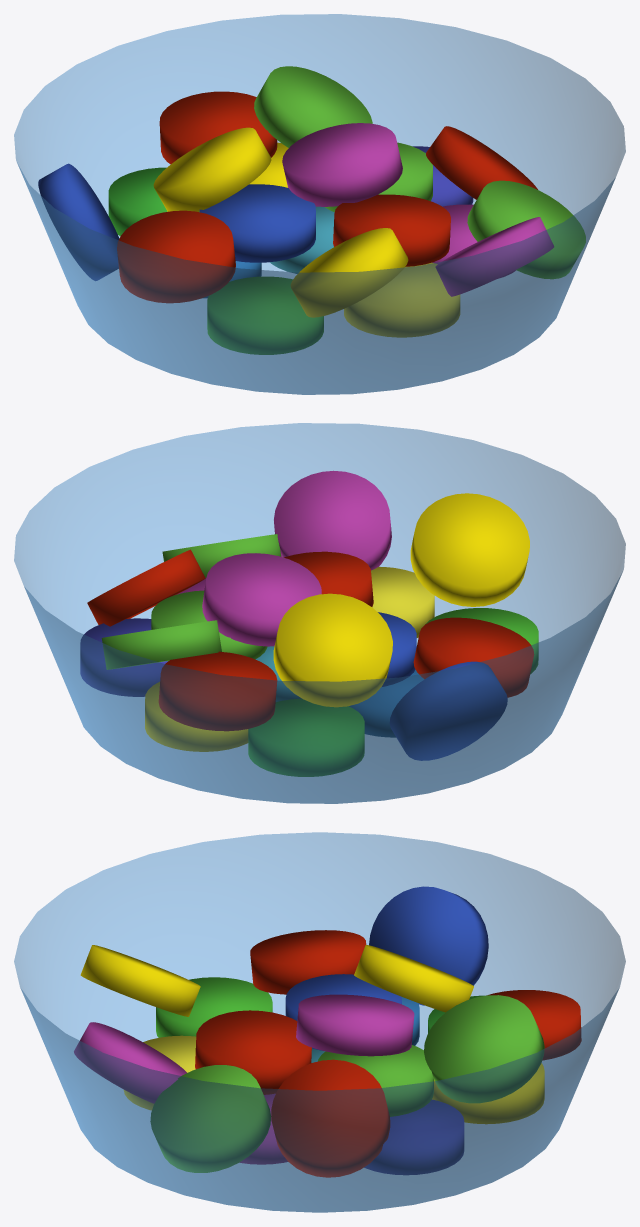
The model's file is Sweet.fbx.
The picture shows the model from 3 angles, top to bottom: view 1: azimuth 30°, elevation 25°; view 2: azimuth 150°, elevation 25°; view 3: azimuth 270°, elevation 25°; orthographic projection.
Parts seen in each view (by area): view 1: Cylinder_001, Cylinder_009, Cylinder_013, Cylinder_006, Cylinder_020, Cylinder_010, Cylinder_016, Cylinder_019, Cylinder_014, Cylinder_005, Cylinder_015, Cylinder_012 (+9 smaller); view 2: Cylinder_001, Cylinder_020, Cylinder_016, Cylinder_018, Cylinder_015, Cylinder_017, Cylinder_013, Cylinder_003, Cylinder_009, Cylinder_021, Cylinder_014, Cylinder_002 (+9 smaller); view 3: Cylinder_001, Cylinder_021, Cylinder_014, Cylinder_019, Cylinder_015, Cylinder_012, Cylinder_013, Cylinder_009, Cylinder_002, Cylinder_018, Cylinder_020, Cylinder_016 (+7 smaller).
Part boxes in pixels (box(x1,y1,x2,y2)): Cylinder_001: box(14, 14, 625, 394); Cylinder_009: box(117, 210, 235, 303); Cylinder_013: box(282, 123, 402, 206); Cylinder_006: box(207, 276, 323, 354); Cylinder_020: box(290, 228, 408, 317); Cylinder_010: box(199, 184, 315, 262); Cylinder_016: box(153, 127, 271, 211); Cylinder_019: box(467, 180, 585, 279); Cylinder_014: box(254, 66, 372, 147); Cylinder_005: box(344, 262, 460, 337); Cylinder_015: box(38, 163, 119, 280); Cylinder_012: box(333, 194, 450, 266); Cylinder_001: box(14, 423, 625, 803); Cylinder_020: box(410, 493, 529, 606); Cylinder_016: box(273, 593, 392, 707); Cylinder_018: box(274, 470, 391, 570); Cylinder_015: box(389, 661, 507, 760); Cylinder_017: box(158, 651, 277, 731); Cylinder_013: box(202, 553, 321, 646); Cylinder_003: box(248, 698, 364, 776); Cylinder_009: box(413, 617, 534, 697); Cylinder_021: box(87, 549, 205, 626); Cylinder_014: box(101, 620, 221, 669); Cylinder_002: box(80, 618, 167, 696); Cylinder_001: box(14, 832, 625, 1212); Cylinder_021: box(271, 1059, 390, 1177); Cylinder_014: box(424, 995, 544, 1103); Cylinder_019: box(150, 1065, 271, 1172); Cylinder_015: box(369, 886, 488, 1005); Cylinder_012: box(195, 1010, 311, 1094); Cylinder_013: box(296, 994, 414, 1056); Cylinder_009: box(250, 930, 366, 994); Cylinder_002: box(364, 1099, 464, 1175); Cylinder_018: box(74, 1022, 186, 1103); Cylinder_020: box(80, 945, 200, 1016); Cylinder_016: box(354, 945, 473, 1012).
Size of the model in its own units: 2.51 by 0.6701 by 2.51.
